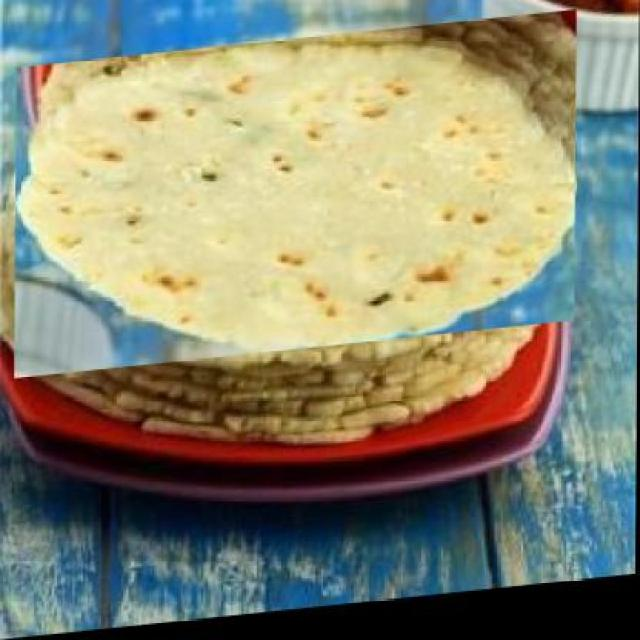chapati: (13, 21, 578, 379)
